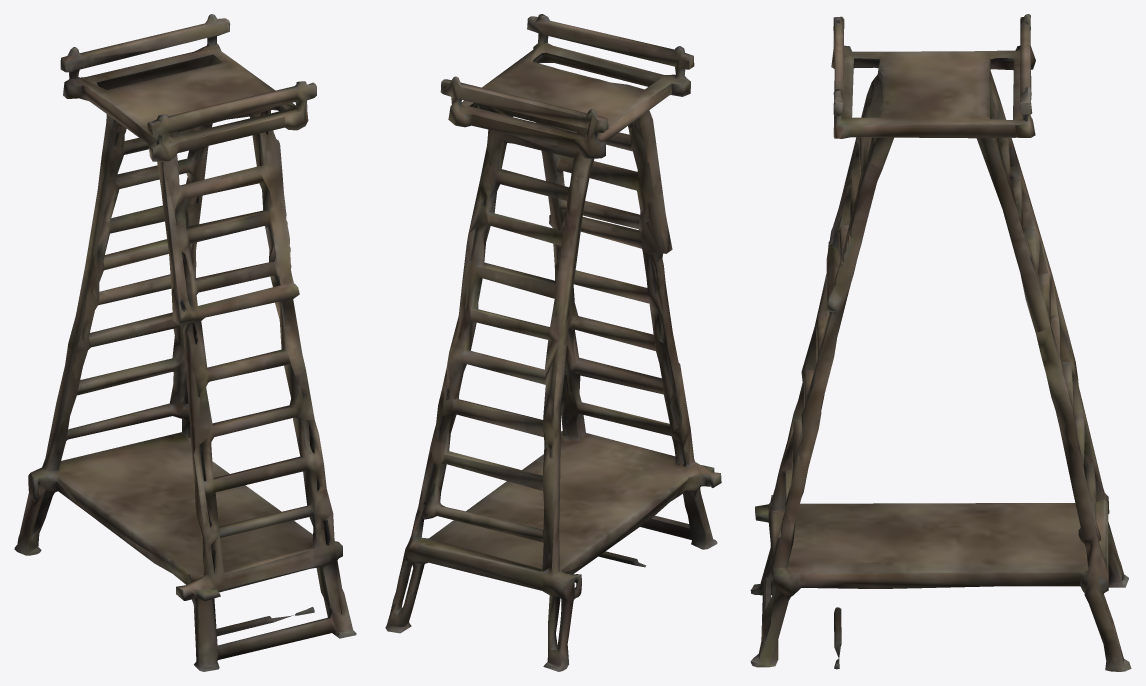
Rendered from sturdy-wood-scaffold-tower-v001.glb.
The picture shows the model from 3 angles, left to right: view 1: azimuth 30°, elevation 25°; view 2: azimuth 150°, elevation 25°; view 3: azimuth 270°, elevation 25°; orthographic projection. The views are drawn at different scales.
Visible parts, largest first — view 1: sturdy-wood-scaffold-tower; view 2: sturdy-wood-scaffold-tower; view 3: sturdy-wood-scaffold-tower.
Part boxes in pixels (x1,y1,x2,y2): sturdy-wood-scaffold-tower: (14,14,356,671); sturdy-wood-scaffold-tower: (385,14,721,671); sturdy-wood-scaffold-tower: (750,14,1131,671).
Bounding box in the file's own units: 1.12 × 3.17 × 1.9.
Materials: 1 (1 with a texture image).
